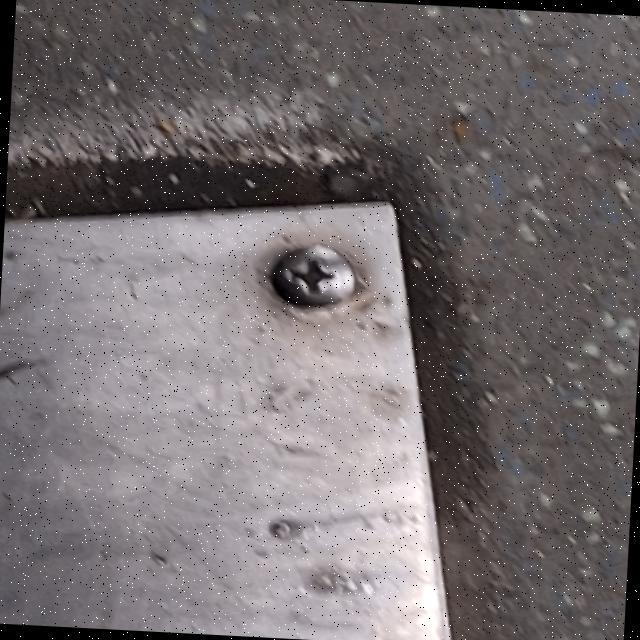Phillips: (257, 235, 379, 322)
